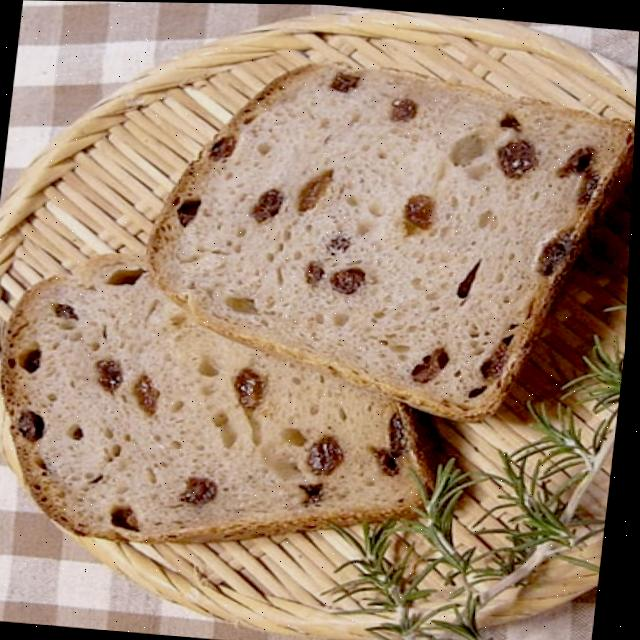面包点心: (0, 3, 640, 596)
